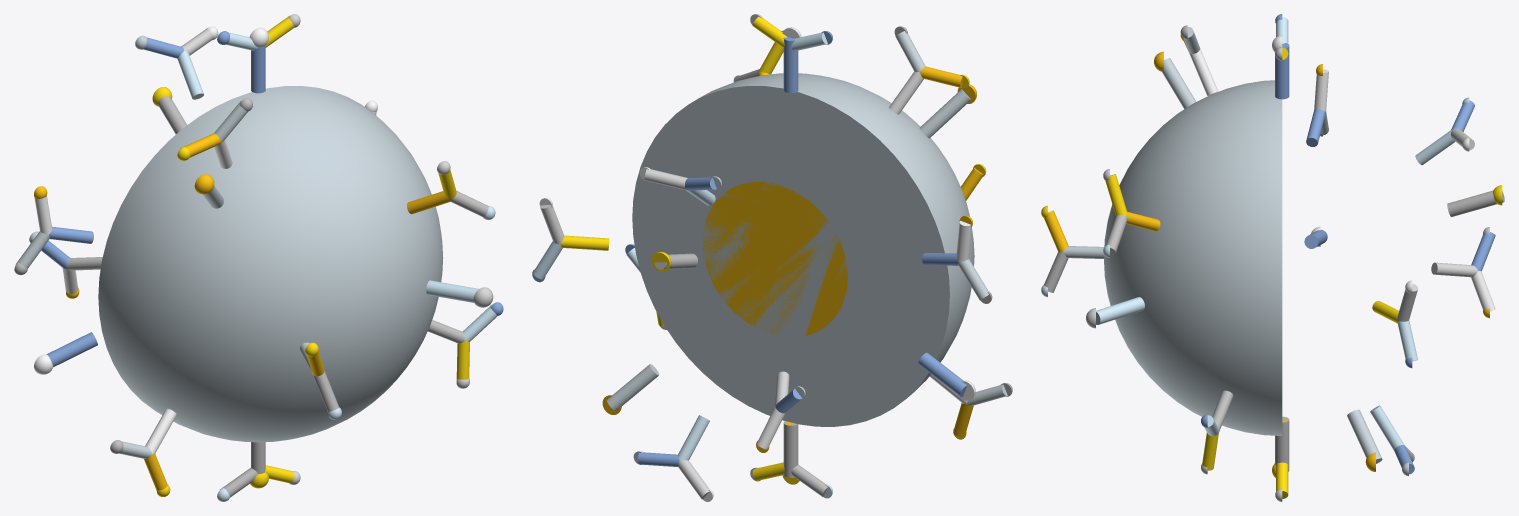
The model's file is 14_helper_T_cell_CD4 - Composite part 1.glb.
3 renders of one model, left to right at view 1: azimuth 30°, elevation 25°; view 2: azimuth 150°, elevation 25°; view 3: azimuth 270°, elevation 25°, orthographic. The views are drawn at different scales.
Visible parts, largest first — view 1: Open CASCADE STEP translator 7.9 14.1, Open CASCADE STEP translator 7.9 14.71, Open CASCADE STEP translator 7.9 14.69, Open CASCADE STEP translator 7.9 14.63, Open CASCADE STEP translator 7.9 14.13, Open CASCADE STEP translator 7.9 14.48, Open CASCADE STEP translator 7.9 14.23, Open CASCADE STEP translator 7.9 14.67, Open CASCADE STEP translator 7.9 14.18; view 2: Open CASCADE STEP translator 7.9 14.1, Open CASCADE STEP translator 7.9 14.2, Open CASCADE STEP translator 7.9 14.73, Open CASCADE STEP translator 7.9 14.65, Open CASCADE STEP translator 7.9 14.71, Open CASCADE STEP translator 7.9 14.63, Open CASCADE STEP translator 7.9 14.75, Open CASCADE STEP translator 7.9 14.53, Open CASCADE STEP translator 7.9 14.28, Open CASCADE STEP translator 7.9 14.8, Open CASCADE STEP translator 7.9 14.10, Open CASCADE STEP translator 7.9 14.25 (+5 smaller); view 3: Open CASCADE STEP translator 7.9 14.1, Open CASCADE STEP translator 7.9 14.73, Open CASCADE STEP translator 7.9 14.67, Open CASCADE STEP translator 7.9 14.69, Open CASCADE STEP translator 7.9 14.65, Open CASCADE STEP translator 7.9 14.63, Open CASCADE STEP translator 7.9 14.53, Open CASCADE STEP translator 7.9 14.8, Open CASCADE STEP translator 7.9 14.75, Open CASCADE STEP translator 7.9 14.38, Open CASCADE STEP translator 7.9 14.13, Open CASCADE STEP translator 7.9 14.29 (+1 smaller).
Part boxes in pixels (x1,y1,x2,y2): Open CASCADE STEP translator 7.9 14.1: [98, 86, 443, 442]; Open CASCADE STEP translator 7.9 14.71: [46, 332, 97, 366]; Open CASCADE STEP translator 7.9 14.69: [426, 280, 478, 302]; Open CASCADE STEP translator 7.9 14.63: [251, 46, 265, 93]; Open CASCADE STEP translator 7.9 14.13: [177, 50, 203, 99]; Open CASCADE STEP translator 7.9 14.48: [145, 408, 176, 453]; Open CASCADE STEP translator 7.9 14.23: [49, 226, 93, 243]; Open CASCADE STEP translator 7.9 14.67: [158, 96, 186, 134]; Open CASCADE STEP translator 7.9 14.18: [407, 191, 450, 214]; Open CASCADE STEP translator 7.9 14.1: [632, 73, 974, 426]; Open CASCADE STEP translator 7.9 14.2: [703, 181, 847, 335]; Open CASCADE STEP translator 7.9 14.73: [606, 364, 659, 410]; Open CASCADE STEP translator 7.9 14.65: [919, 89, 971, 138]; Open CASCADE STEP translator 7.9 14.71: [918, 352, 966, 396]; Open CASCADE STEP translator 7.9 14.63: [783, 37, 798, 93]; Open CASCADE STEP translator 7.9 14.75: [783, 421, 798, 477]; Open CASCADE STEP translator 7.9 14.53: [677, 415, 709, 460]; Open CASCADE STEP translator 7.9 14.28: [560, 235, 609, 250]; Open CASCADE STEP translator 7.9 14.8: [889, 71, 923, 114]; Open CASCADE STEP translator 7.9 14.10: [920, 66, 962, 87]; Open CASCADE STEP translator 7.9 14.25: [958, 258, 988, 300]; Open CASCADE STEP translator 7.9 14.1: [1104, 80, 1282, 435]; Open CASCADE STEP translator 7.9 14.73: [1347, 409, 1382, 463]; Open CASCADE STEP translator 7.9 14.67: [1447, 190, 1504, 216]; Open CASCADE STEP translator 7.9 14.69: [1096, 297, 1144, 324]; Open CASCADE STEP translator 7.9 14.65: [1161, 58, 1196, 108]; Open CASCADE STEP translator 7.9 14.63: [1275, 43, 1289, 99]; Open CASCADE STEP translator 7.9 14.53: [1370, 405, 1404, 450]; Open CASCADE STEP translator 7.9 14.8: [1189, 49, 1218, 95]; Open CASCADE STEP translator 7.9 14.75: [1275, 416, 1289, 471]; Open CASCADE STEP translator 7.9 14.38: [1431, 262, 1477, 277]; Open CASCADE STEP translator 7.9 14.13: [1415, 130, 1455, 165]; Open CASCADE STEP translator 7.9 14.29: [1397, 320, 1417, 361].
Bounding box in the file's own units: 0.0187 × 0.0196 × 0.0182.
